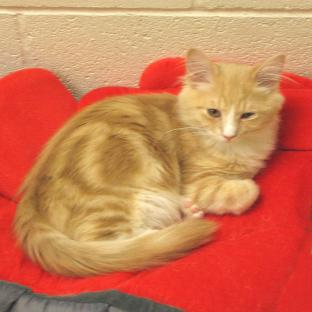Animal: (14, 48, 284, 276)
